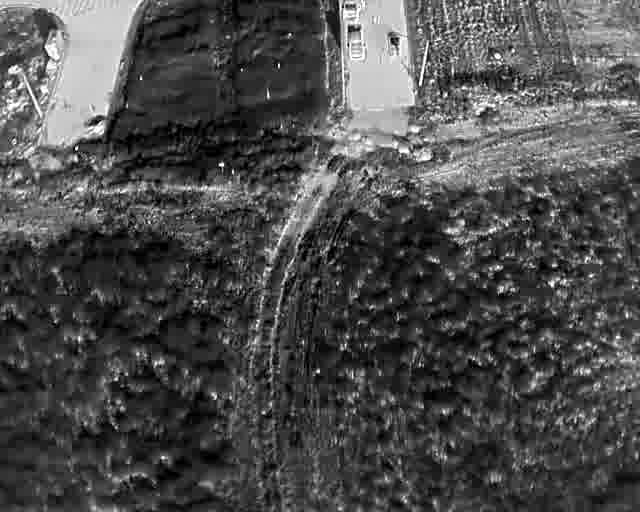car: (346, 21, 364, 62), (387, 29, 401, 58), (341, 0, 359, 20)
person: (370, 14, 375, 24), (377, 52, 382, 62), (362, 0, 366, 11), (376, 14, 380, 24), (389, 53, 393, 63), (404, 56, 408, 66), (359, 0, 363, 8)
